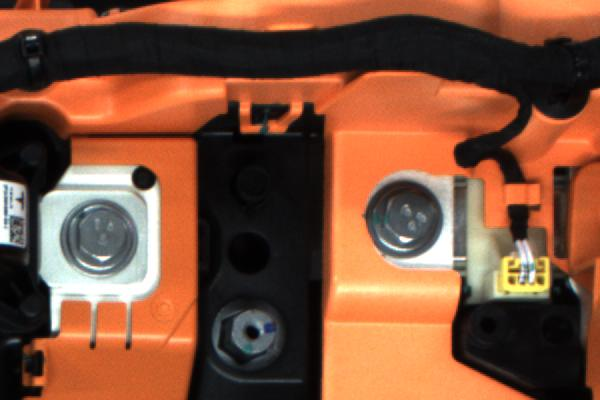nut_b: (353, 171, 445, 263), (55, 201, 143, 279)
